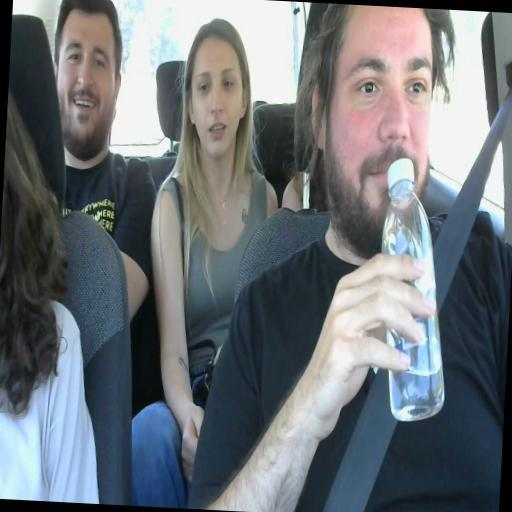Drinking: (314, 12, 447, 423)
